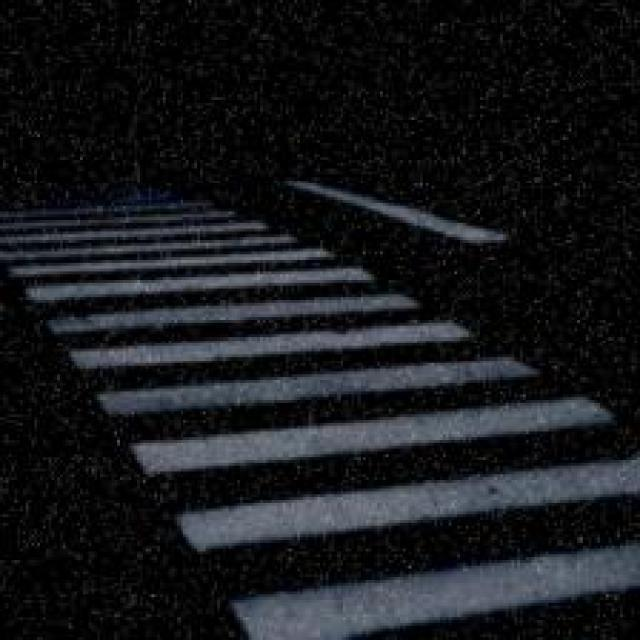crosswalk: (11, 198, 640, 640)
